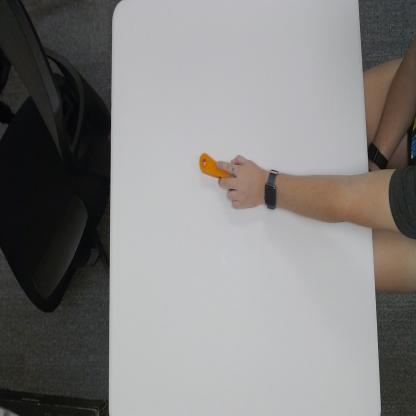Arm: (280, 169, 372, 227)
Hand: (217, 156, 264, 213)
Screwdriver: (196, 151, 232, 184)
